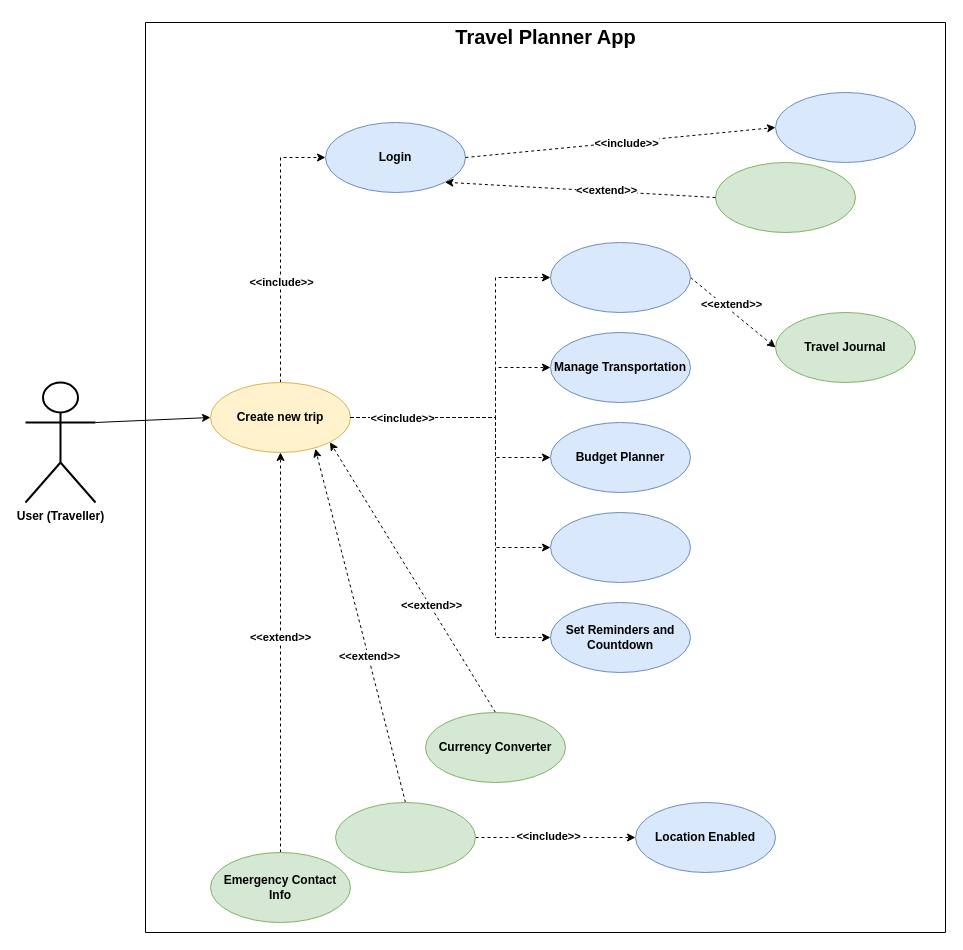
Image size: 963x950. Some labels were removed from this diagram. Here are the shapes that lost their labels. From the top down, the centre of each, then its label:
pixel 845 127: Register
pixel 785 197: Logout
pixel 620 277: Plan Itinerary
pixel 620 547: Packing Checklist
pixel 405 837: View location-Based Suggestions
